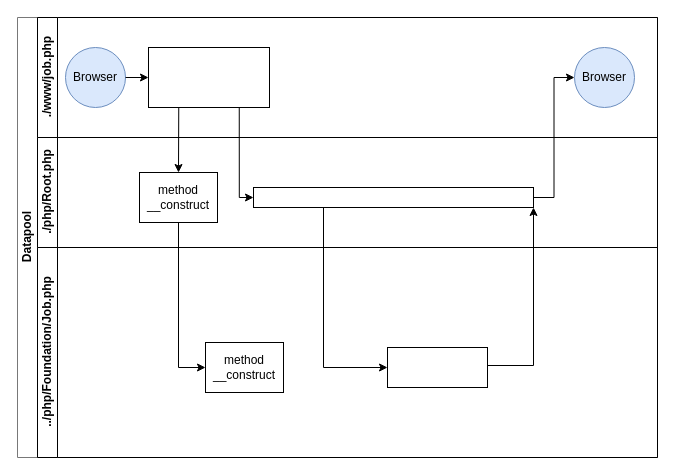
The diagram is 675 pixels wide and 475 high, and some of its shapes have lost their labels. The shapes that lost their labels are listed below. From the top down, each one's centre as x and y in pixels, then its label:
At point (209, 77): "Creates instance of Root".
At point (393, 197): "method run".
At point (437, 367): "method trigger".
